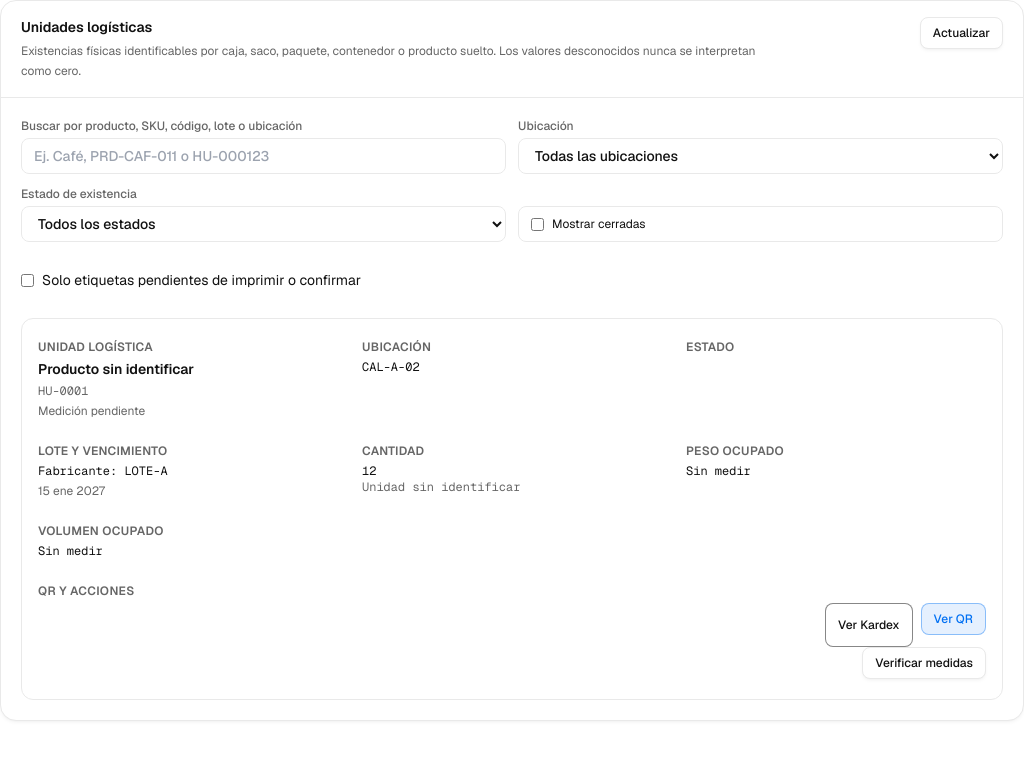
Scenario: HandlingUnitsPanel › mantiene disponible el QR cuando la unidad no tiene lote para etiqueta física
The width and height of the screenshot is (1024, 768).
Expected: the text "HU-0001" is shown, [38,383,88,399]
Click the button with aria-label "Ver QR de HU-0001" at (953, 619), box [921,603,986,635]
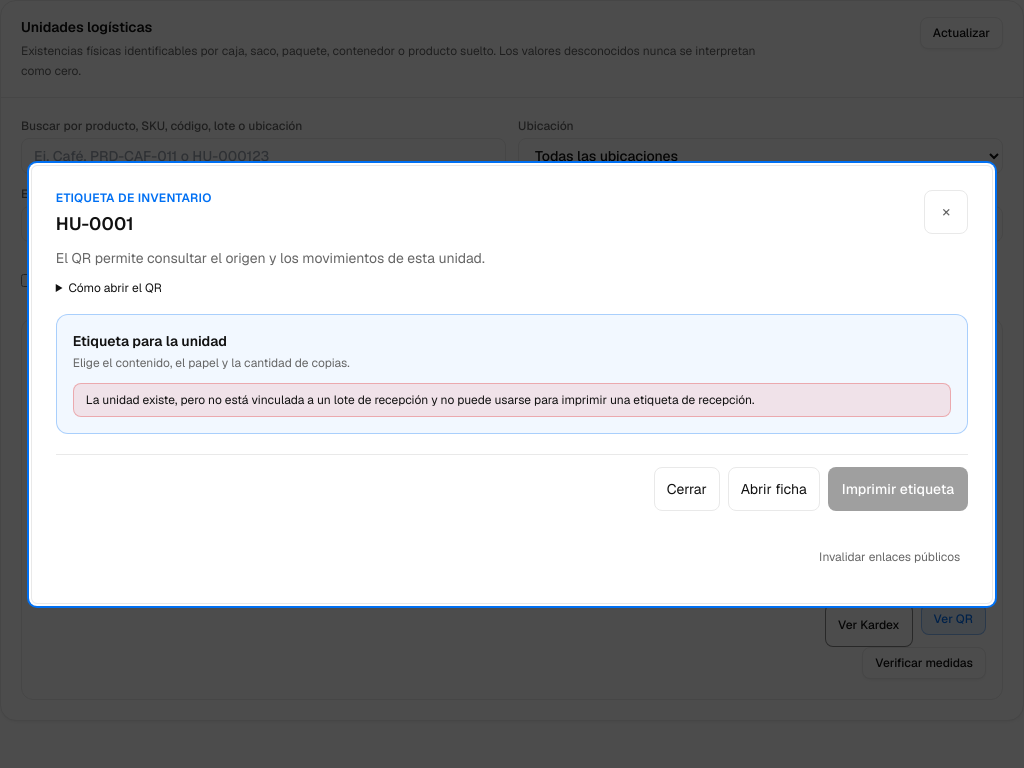
Now the heading "HU-0001" is shown, box [56,212,134,234]
Now the link "Abrir ficha" is shown, box [728,466,820,510]
Now the text "La unidad existe, pero no está vinculada a un lote de recepción y no puede usarse para imprimir una etiqueta de recepció" is shown, box [86,392,754,408]
